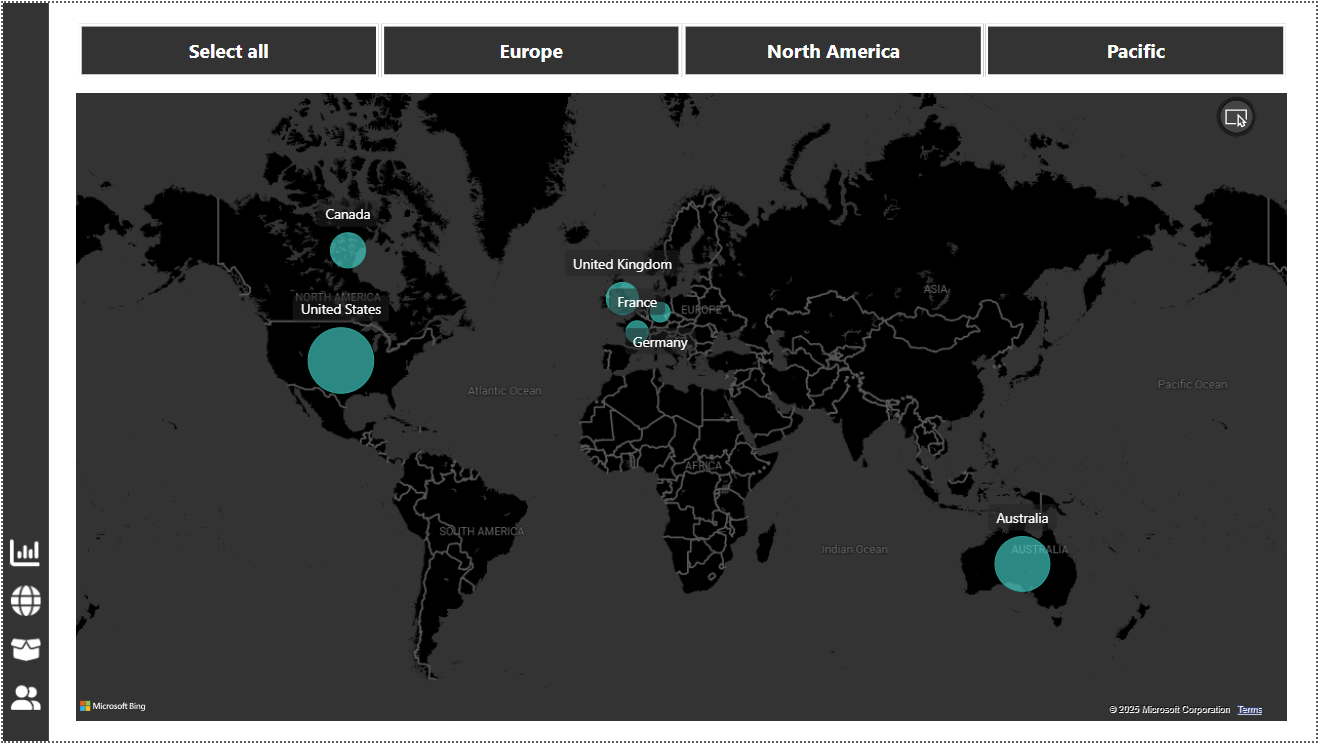

This screenshot's page, from the dashboard's own definition file:
{"tool":"powerbi","page":{"name":"Map","canvas":[1280,720],"ordinal":1},"visuals":[{"type":"shape","box":[0,0,45,720],"z":0},{"type":"actionButton","box":[2.5,516.7,45.6,37.8],"z":0,"group":"g1"},{"type":"actionButton","box":[3.3,563.4,45.6,37.8],"z":1000,"group":"g1"},{"type":"map","fields":{"Category":["Territory Lookup.Country"],"Size":["Measure Table.Total Orders"]},"box":[65.6,82.5,1191.3,622.8],"z":1000},{"type":"slicer","fields":{"Values":["Territory Lookup.Continent"]},"box":[43,13.6,1234.3,65.6],"z":2000},{"type":"actionButton","box":[3.3,611.1,45.6,37.8],"z":2000,"group":"g1"},{"type":"actionButton","box":[3.3,657.8,45.6,37.8],"z":3000,"group":"g1"},{"type":"group","id":"g1","title":"Navigation Buttons","box":[2.5,516.7,46.4,178.9],"z":3000}]}

Visuals, with their boxes in screenshot pixels (x1, y1, x2, y2):
shape: x1=0, y1=7, x2=46, y2=739
actionButton: x1=3, y1=532, x2=49, y2=571
actionButton: x1=3, y1=580, x2=50, y2=618
map - Territory Lookup.Country x Measure Table.Total Orders: x1=67, y1=91, x2=1277, y2=724
slicer - Territory Lookup.Continent: x1=44, y1=21, x2=1298, y2=87
actionButton: x1=3, y1=628, x2=50, y2=667
actionButton: x1=3, y1=676, x2=50, y2=714
"Navigation Buttons" group: x1=3, y1=532, x2=50, y2=714
